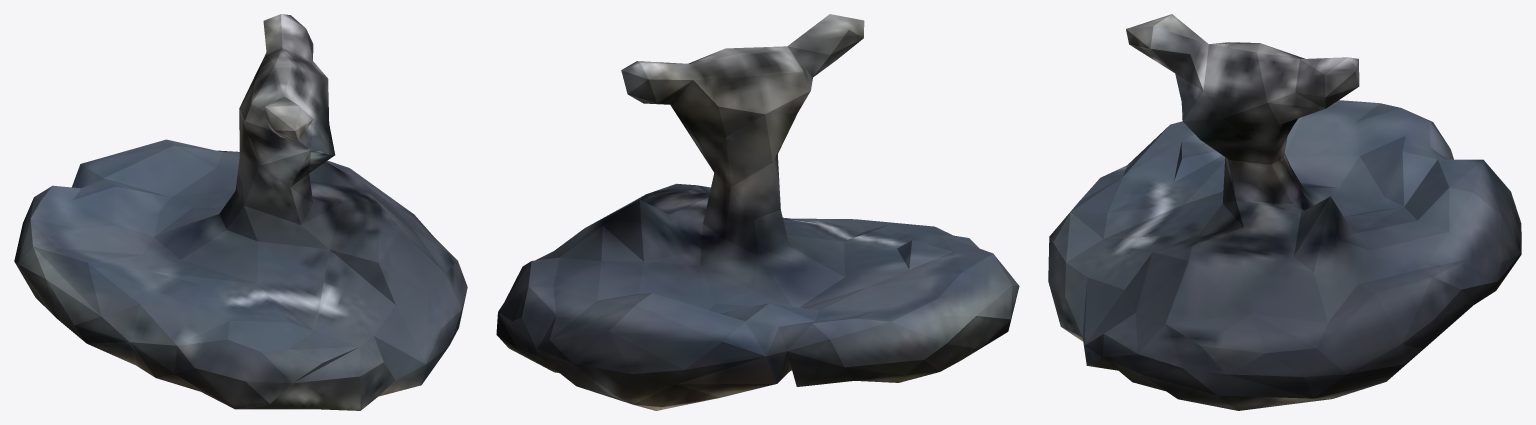
The picture shows the model from 3 angles, left to right: view 1: azimuth 30°, elevation 25°; view 2: azimuth 150°, elevation 25°; view 3: azimuth 270°, elevation 25°; orthographic projection. The views are drawn at different scales.
Bounding box in the file's own units: 0.4354 × 0.3166 × 0.432.
Materials: 1 (1 with a texture image).
